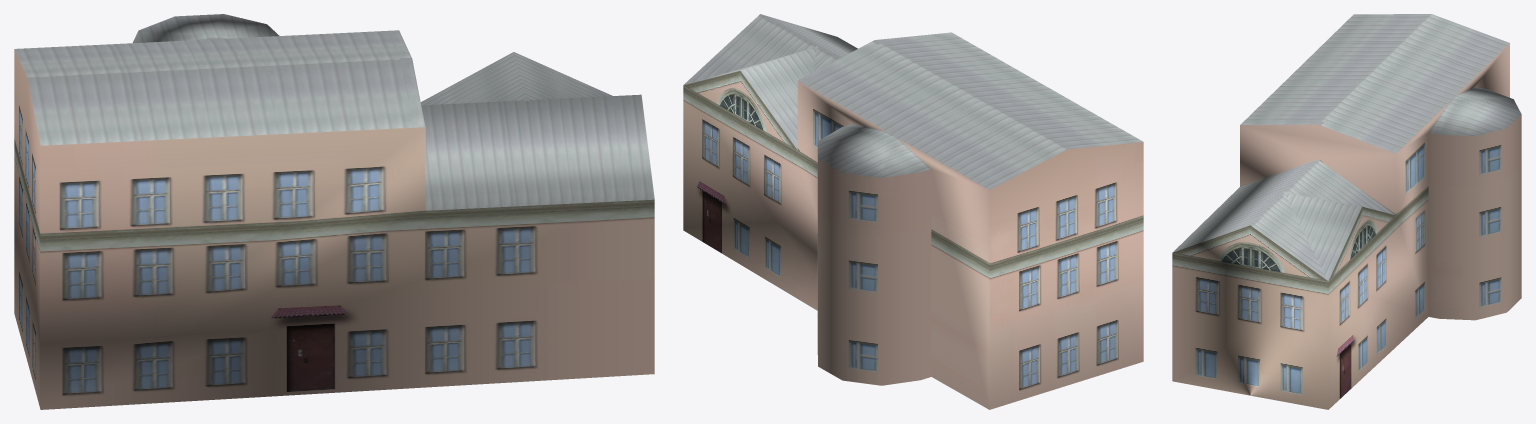
Rendered from lp-building28.fbx.
The picture shows the model from 3 angles, left to right: view 1: azimuth 30°, elevation 25°; view 2: azimuth 150°, elevation 25°; view 3: azimuth 270°, elevation 25°; orthographic projection. The views are drawn at different scales.
Visible parts, largest first — view 1: 01houses.018; view 2: 01houses.018; view 3: 01houses.018.
Boxes of the visible parts, left/top/right/bottom form: 01houses.018: left=14, top=14, right=654, bottom=409; 01houses.018: left=683, top=14, right=1143, bottom=409; 01houses.018: left=1172, top=14, right=1521, bottom=409.
Bounding box in the file's own units: 843 × 401 × 606.
Materials: 1 (1 with a texture image).
